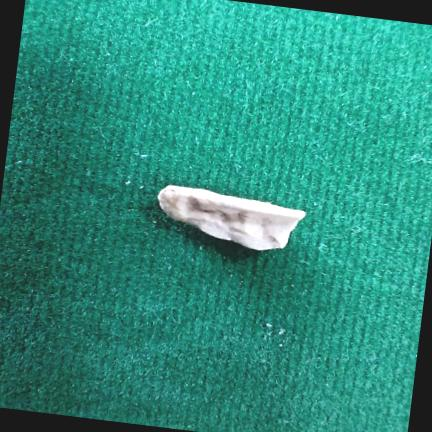shell: (157, 185, 305, 250)
